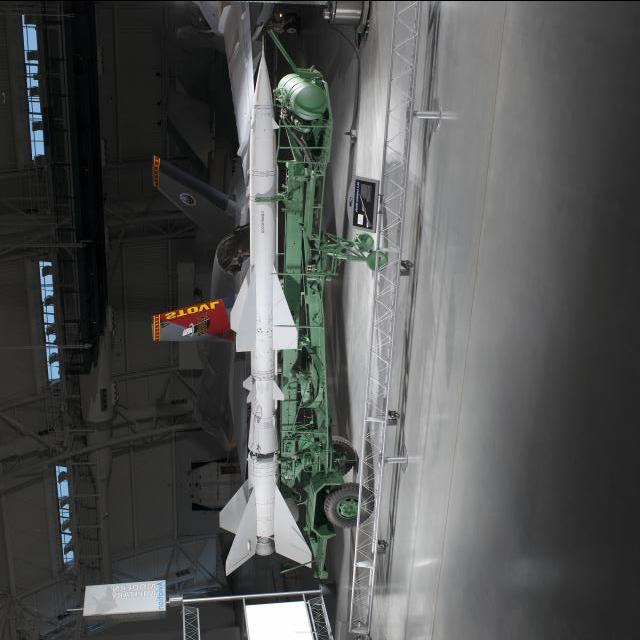Missile: (232, 37, 299, 562)
